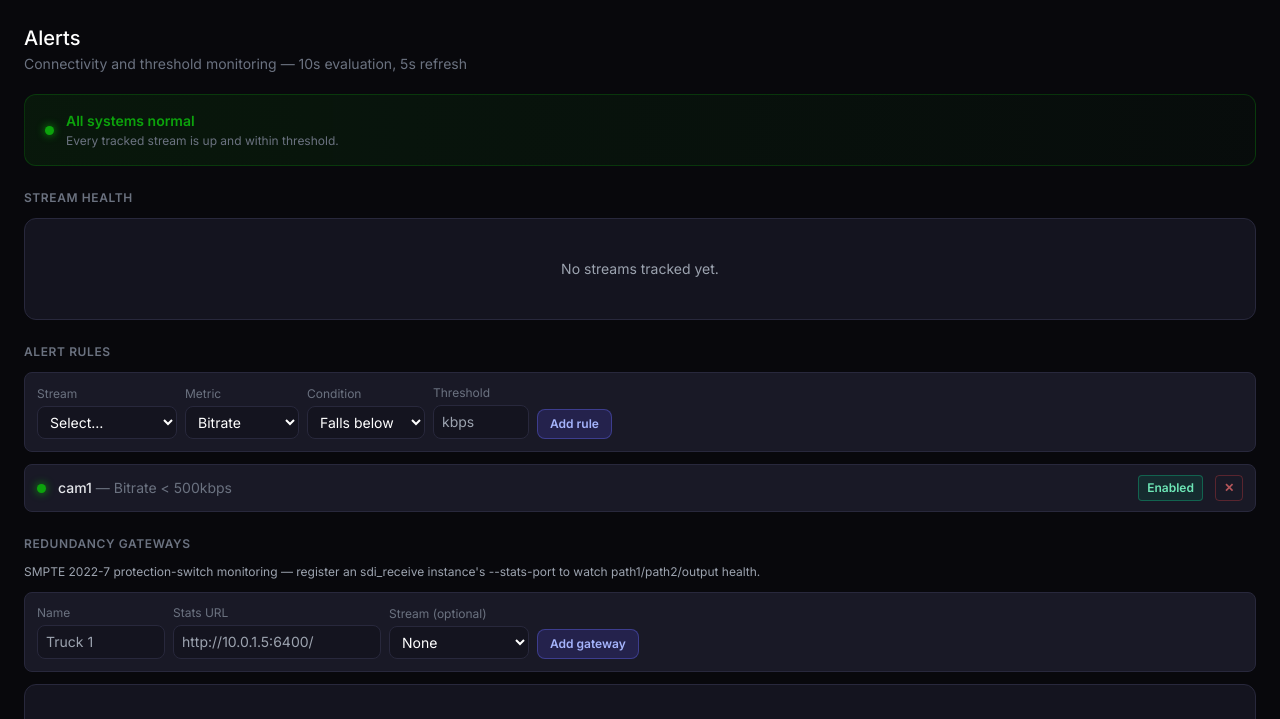
Test: AlertsPage — alert rules › toggles a rule and shows a success toast
Expected: the text "cam1" is shown, [58,479,92,496]
Click the button "Enabled" at (1171, 488), box [1138,475,1203,501]
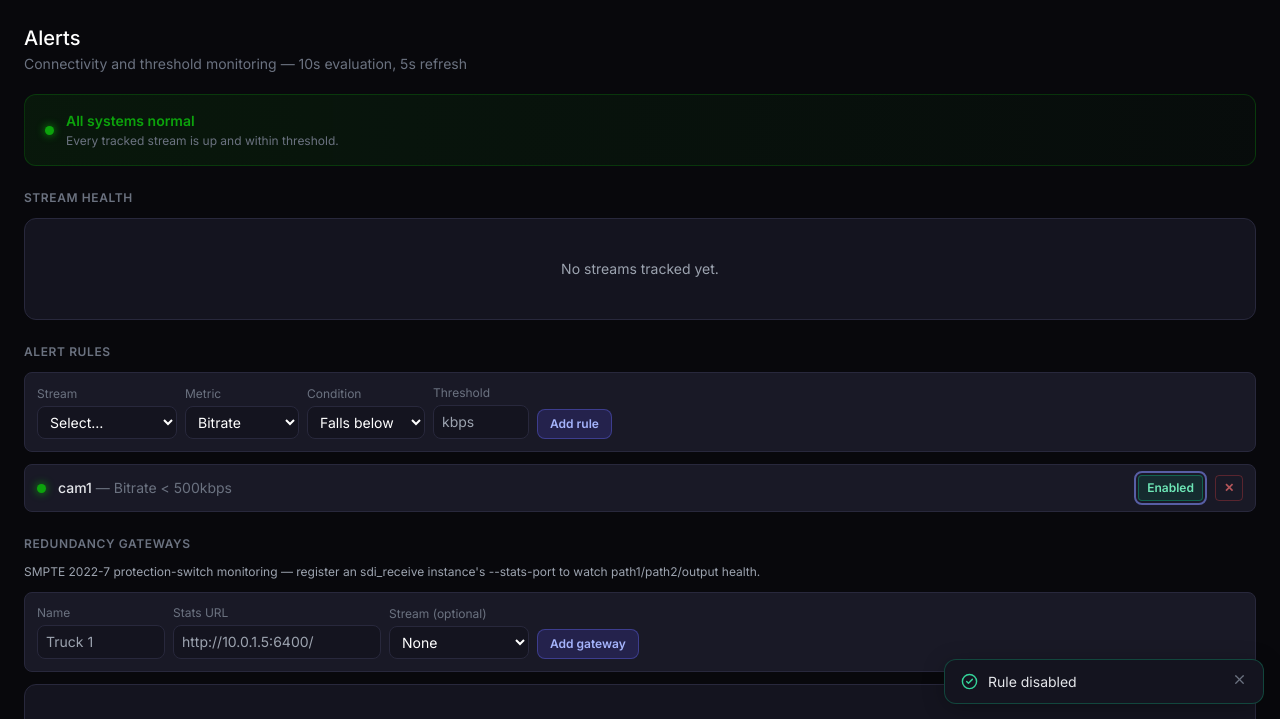
Expected: the text "Rule disabled" is shown, [988,673,1077,690]
